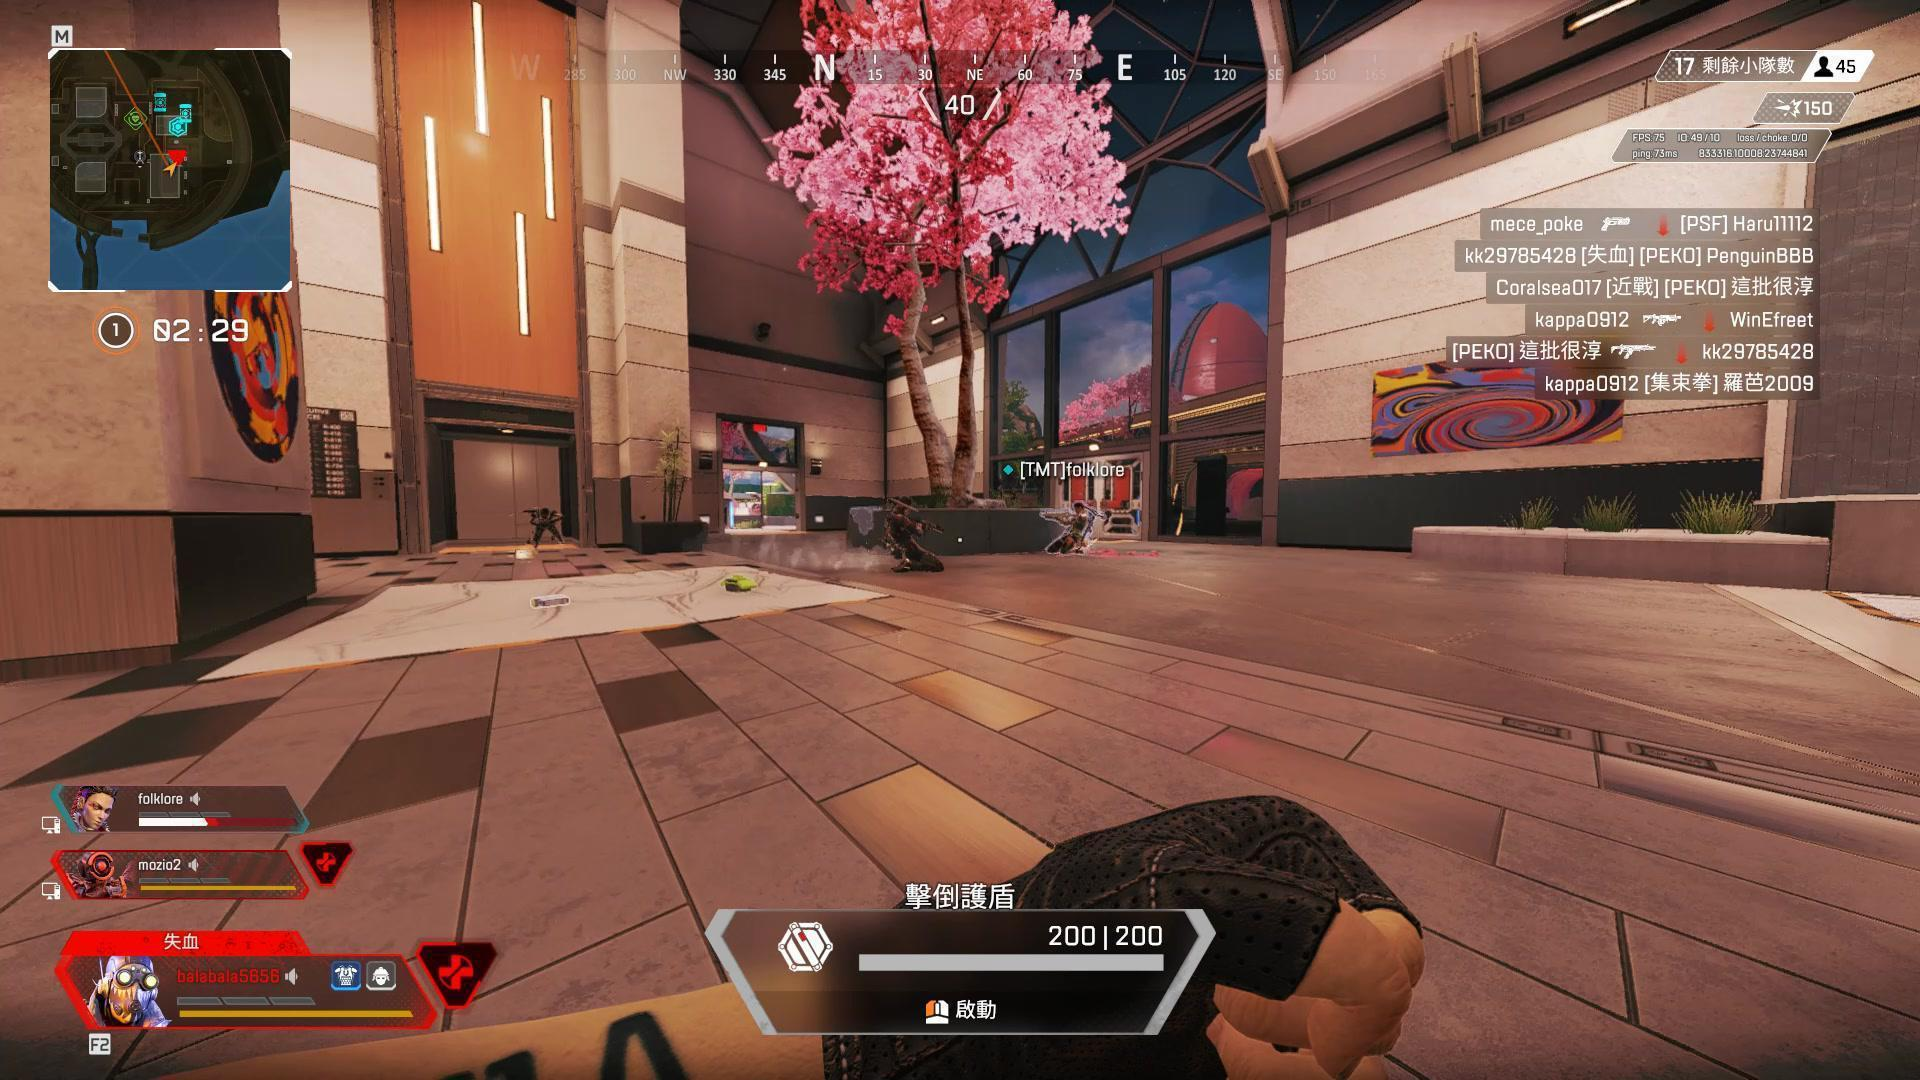avatar: (876, 500, 952, 581), (1040, 499, 1092, 558), (523, 500, 566, 549)
